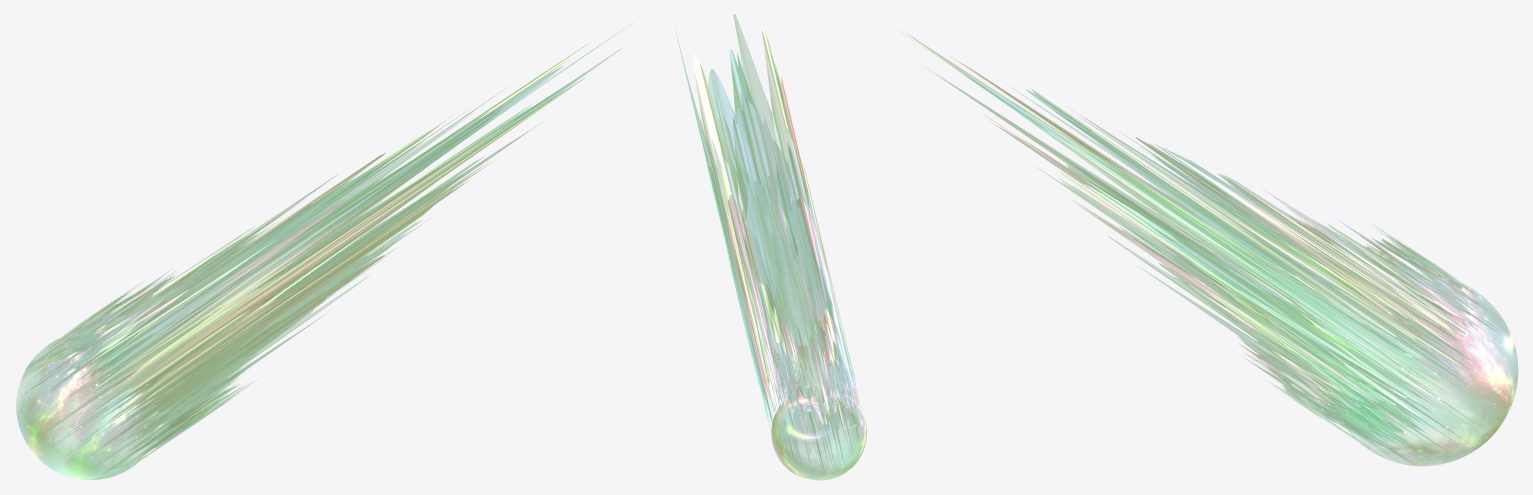
The model's file is comet_new.glb.
3 views of the same model, side by side, from view 1: azimuth 30°, elevation 25°; view 2: azimuth 150°, elevation 25°; view 3: azimuth 270°, elevation 25° (orthographic). The views are drawn at different scales.
Visible parts, largest first — view 1: Object_2; view 2: Object_2; view 3: Object_2.
Part boxes in pixels (bbox=[...]): Object_2: bbox=[16, 24, 630, 480]; Object_2: bbox=[676, 14, 866, 480]; Object_2: bbox=[896, 29, 1518, 466].
Size of the model in its own units: 14.17 by 14.62 by 13.04.
Materials: 1 (1 with a texture image).
